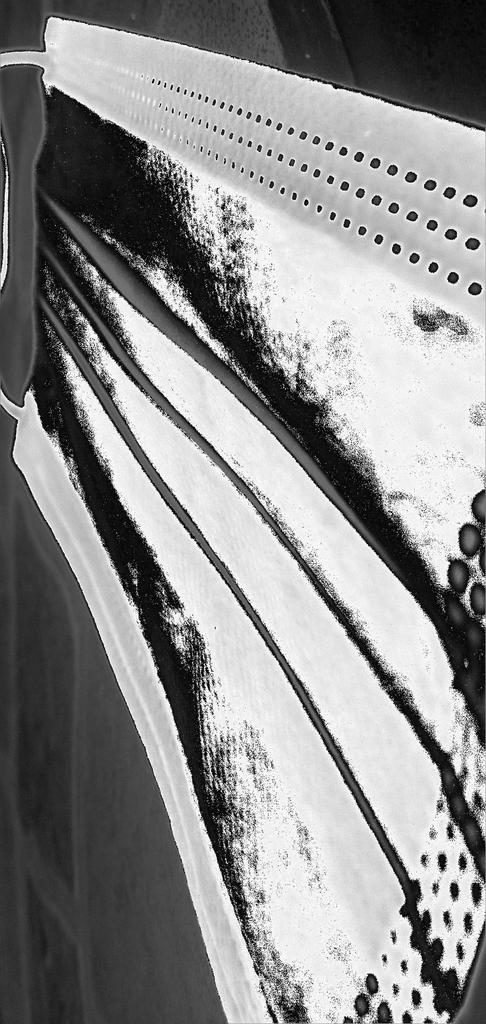High GSM: (11, 10, 473, 1017)
